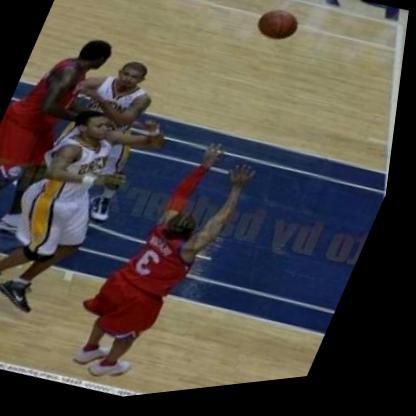basketball: (248, 4, 309, 60)
